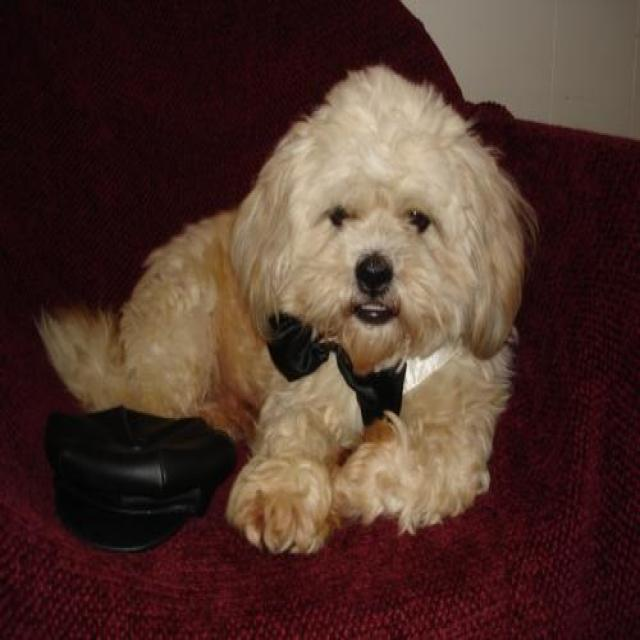Dogs: (33, 61, 539, 556)
